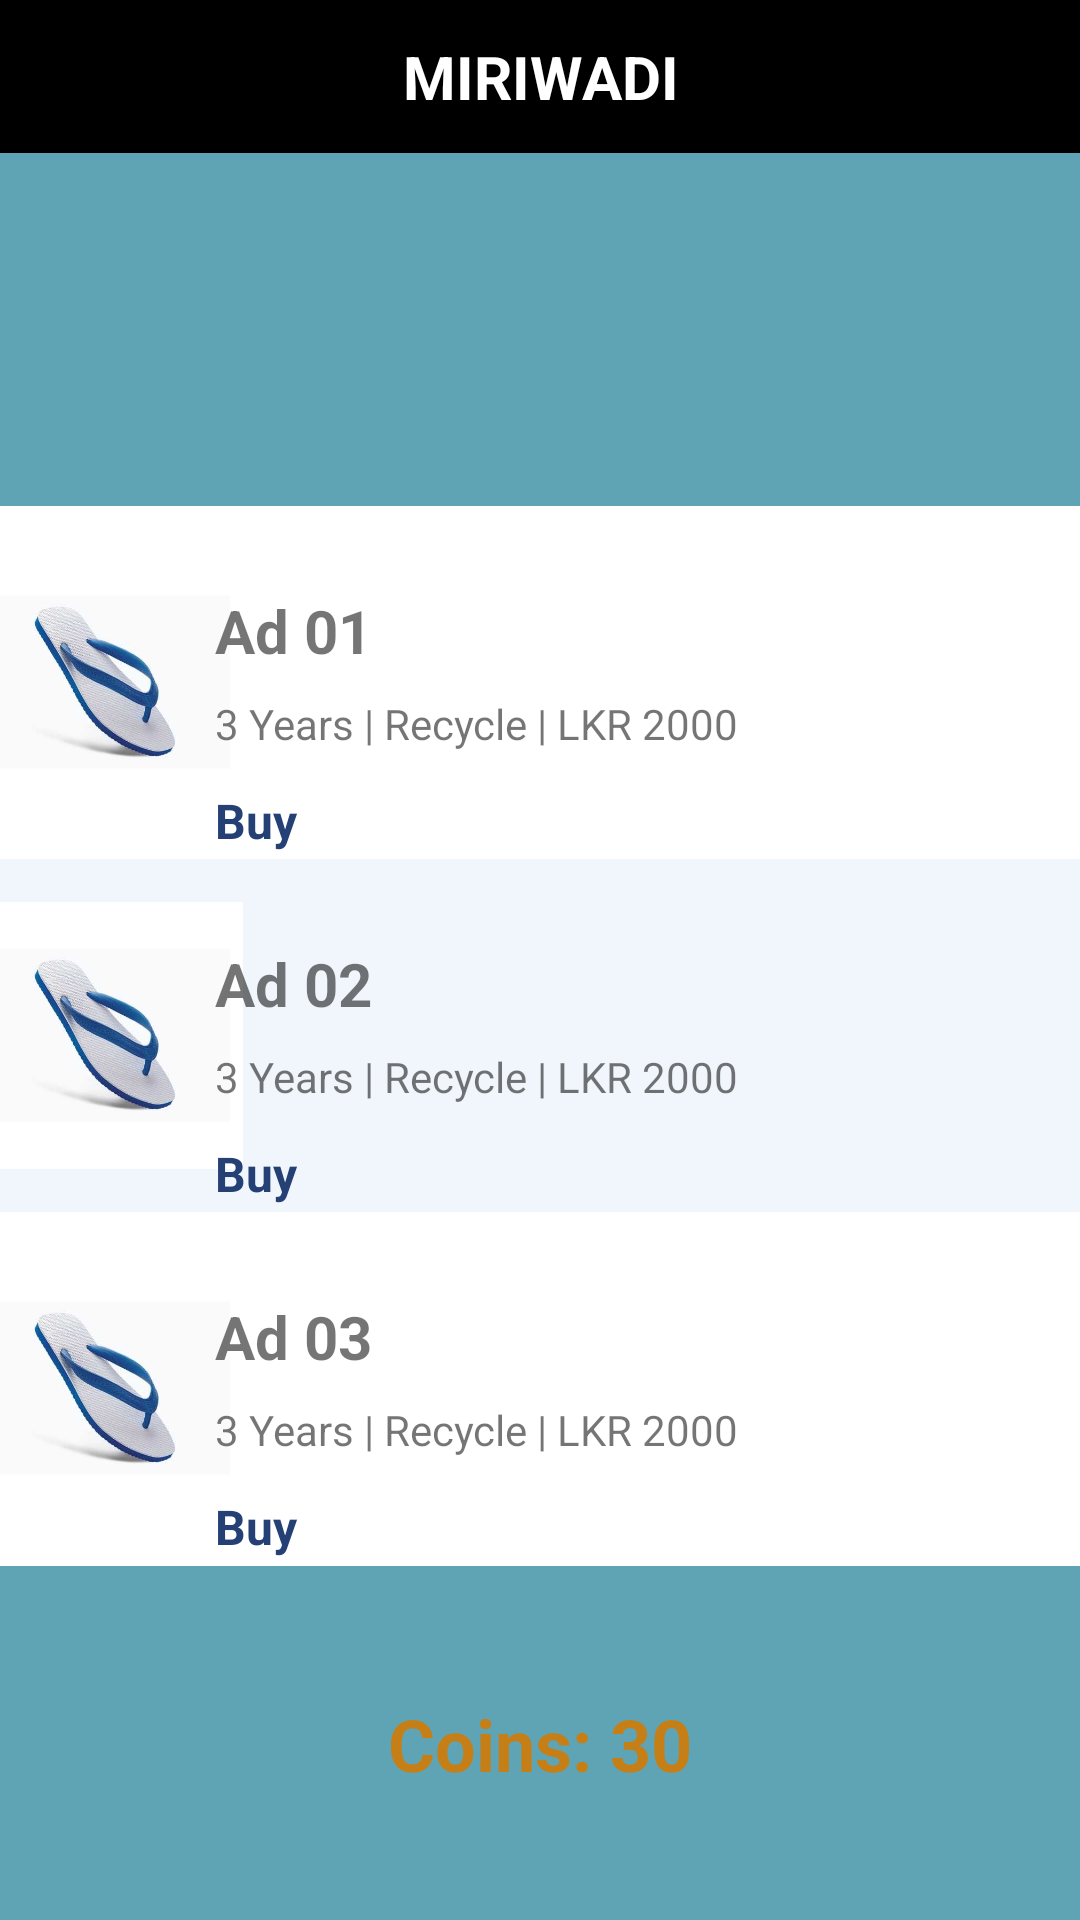

Icons on this 1080 × 1920 Android screen, each with the point to tap as (x,y):
slipper: (135,682), (121,1037), (135,1388)
